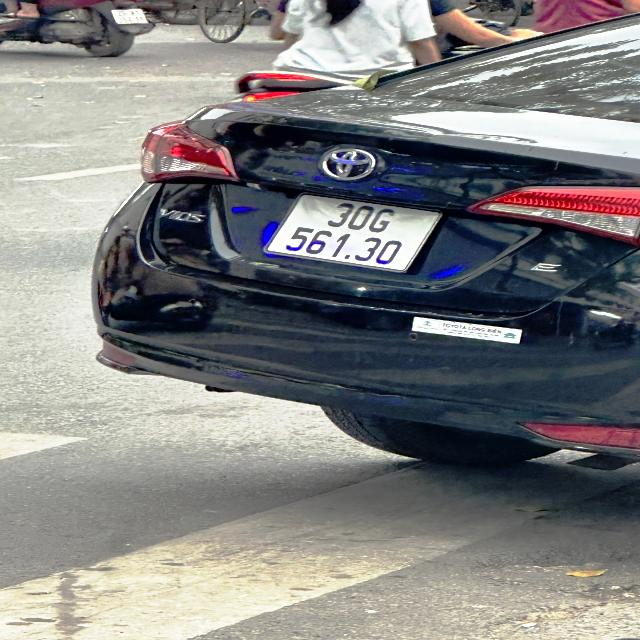license_plate: (255, 190, 457, 277)
